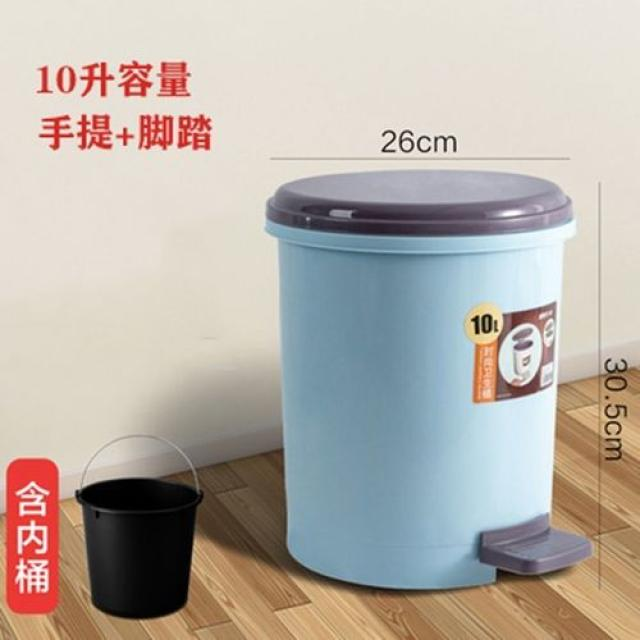dustbin: (262, 163, 601, 599)
